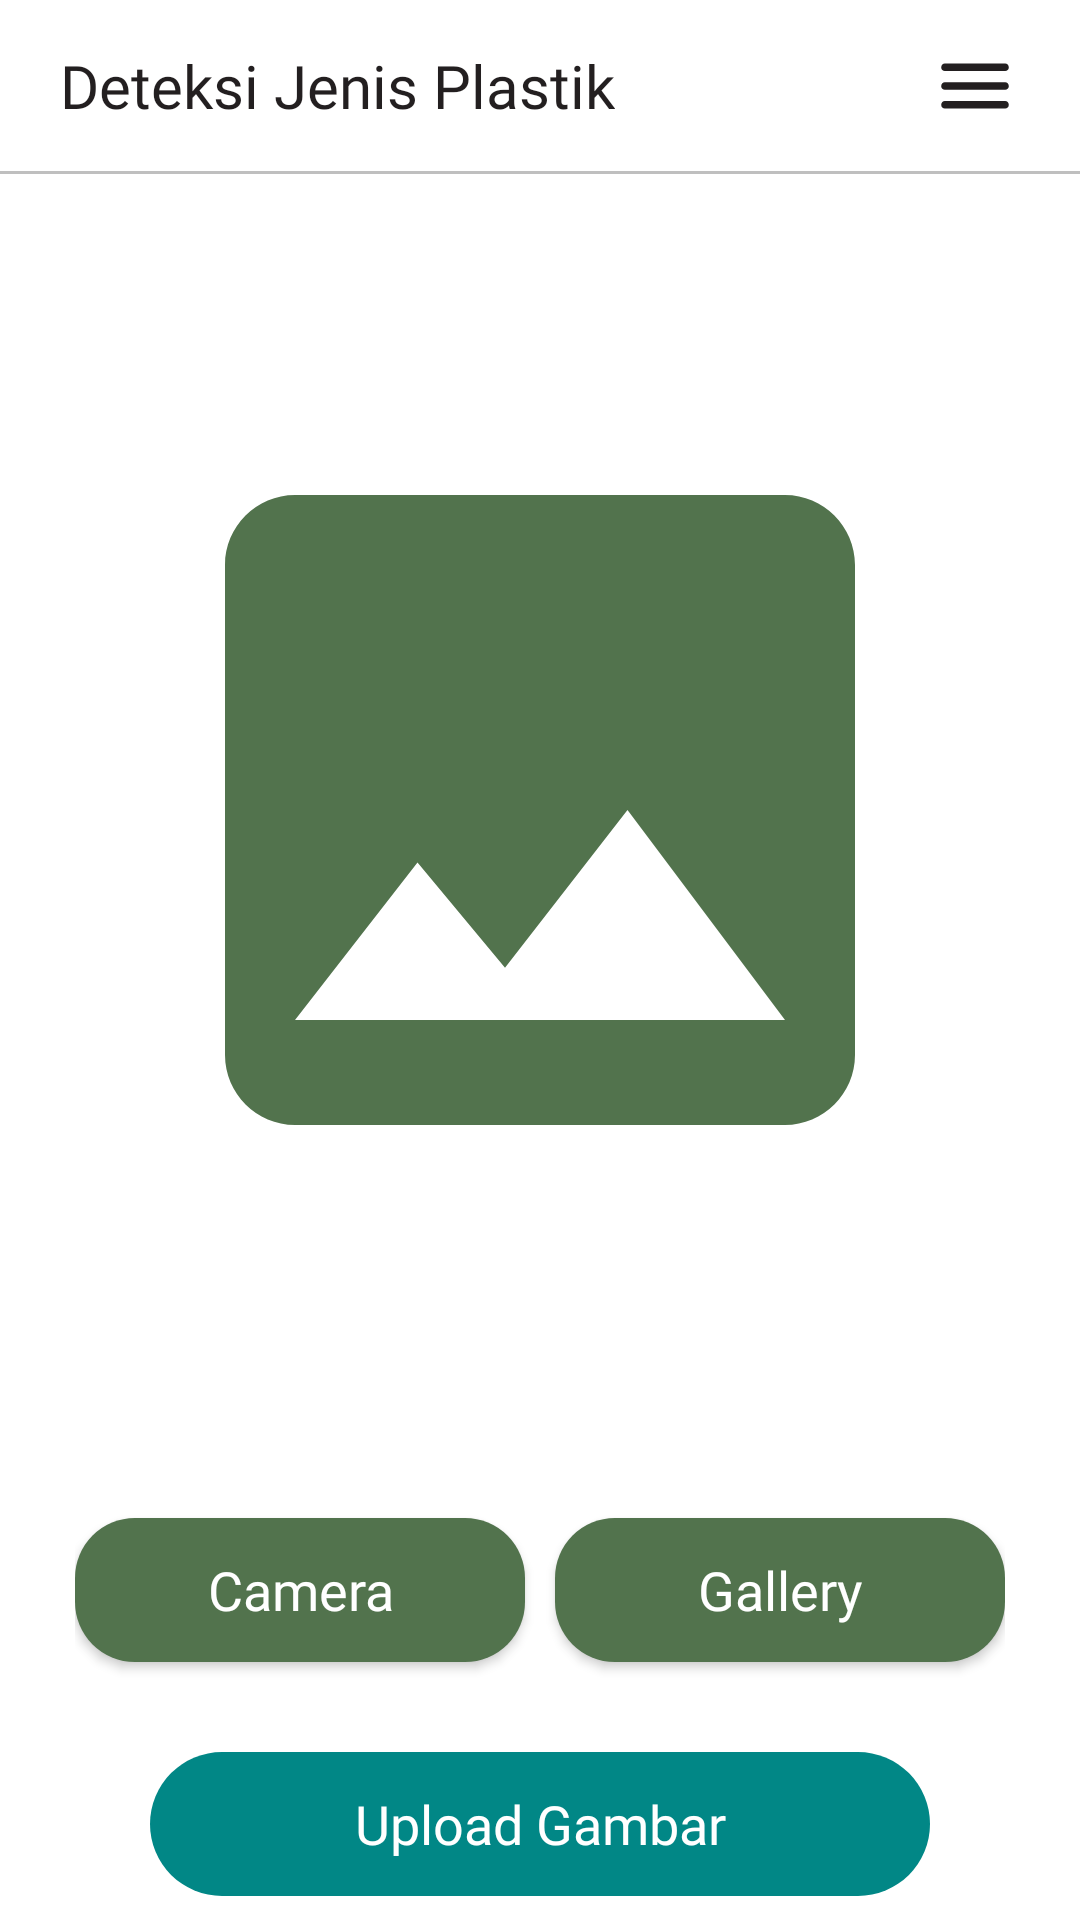

Icon click points for this 1080px×1920px phone screenshot, format (x,y):
Menu: (975,86)
